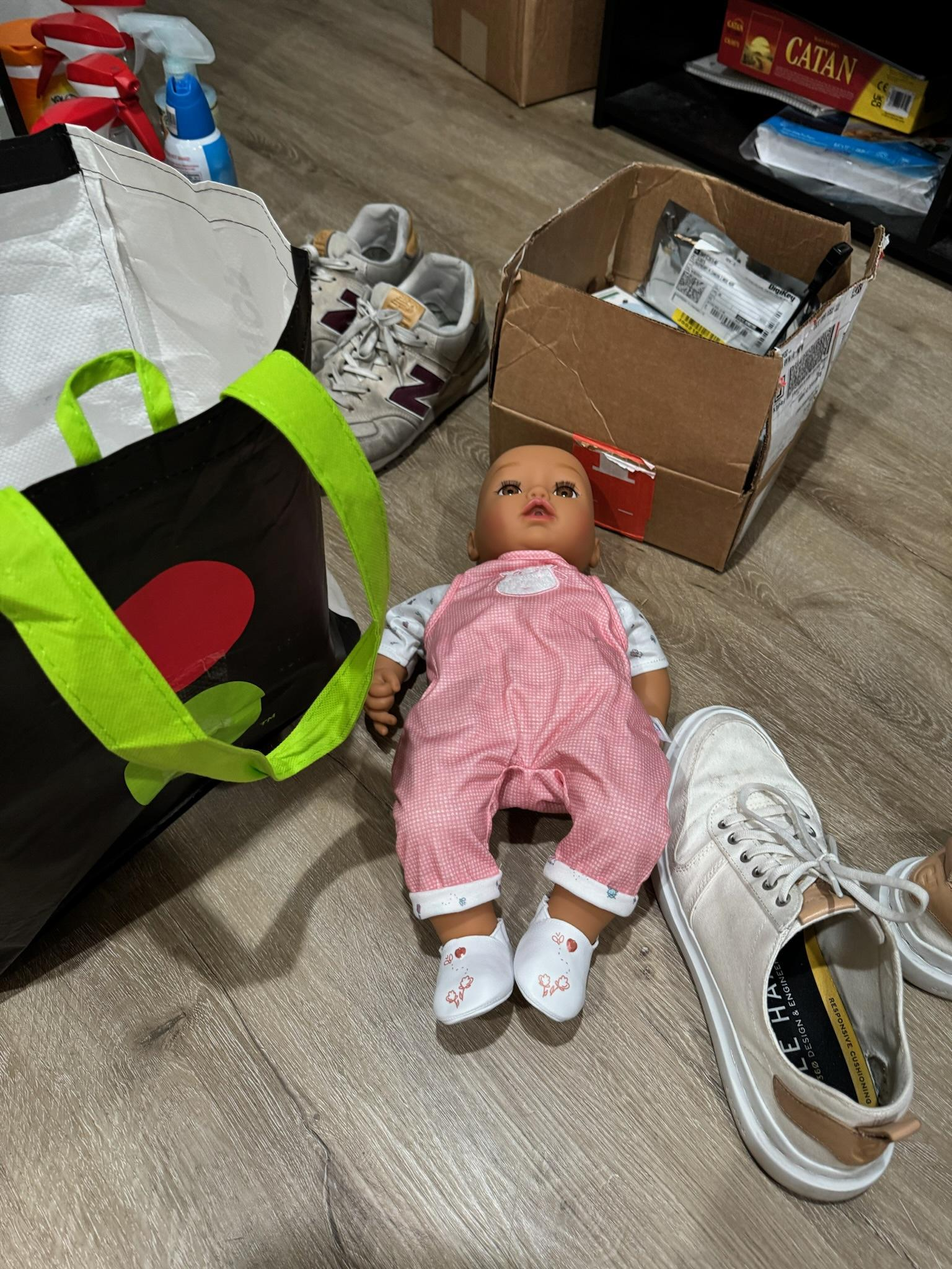baby: (347, 423, 694, 1076)
